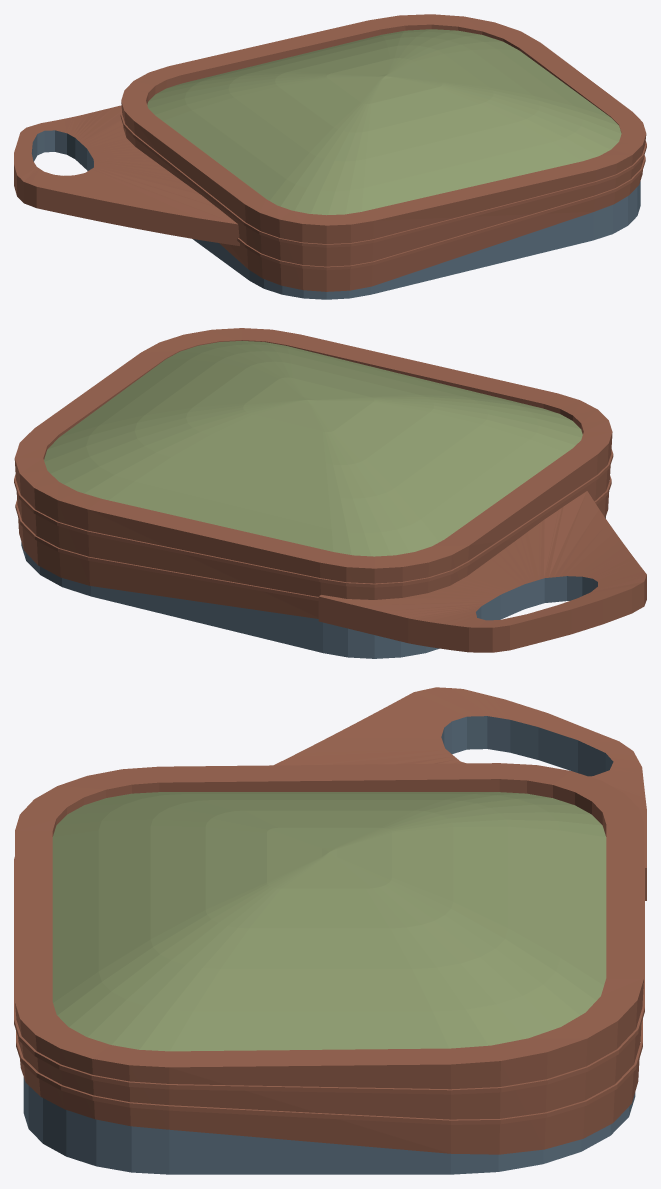
Rendered from nyc-barclays-center.glb.
3 renders of one model, top to bottom at view 1: azimuth 30°, elevation 25°; view 2: azimuth 150°, elevation 25°; view 3: azimuth 270°, elevation 25°, orthographic. The views are drawn at different scales.
Visible parts, largest first — view 1: Barclays Center; view 2: Barclays Center; view 3: Barclays Center.
Boxes of the visible parts, x1,y1,x2,y2 form: Barclays Center: (14, 14, 646, 299); Barclays Center: (14, 328, 646, 658); Barclays Center: (14, 687, 646, 1174).
Bounding box in the file's own units: 190 × 41 × 130.
